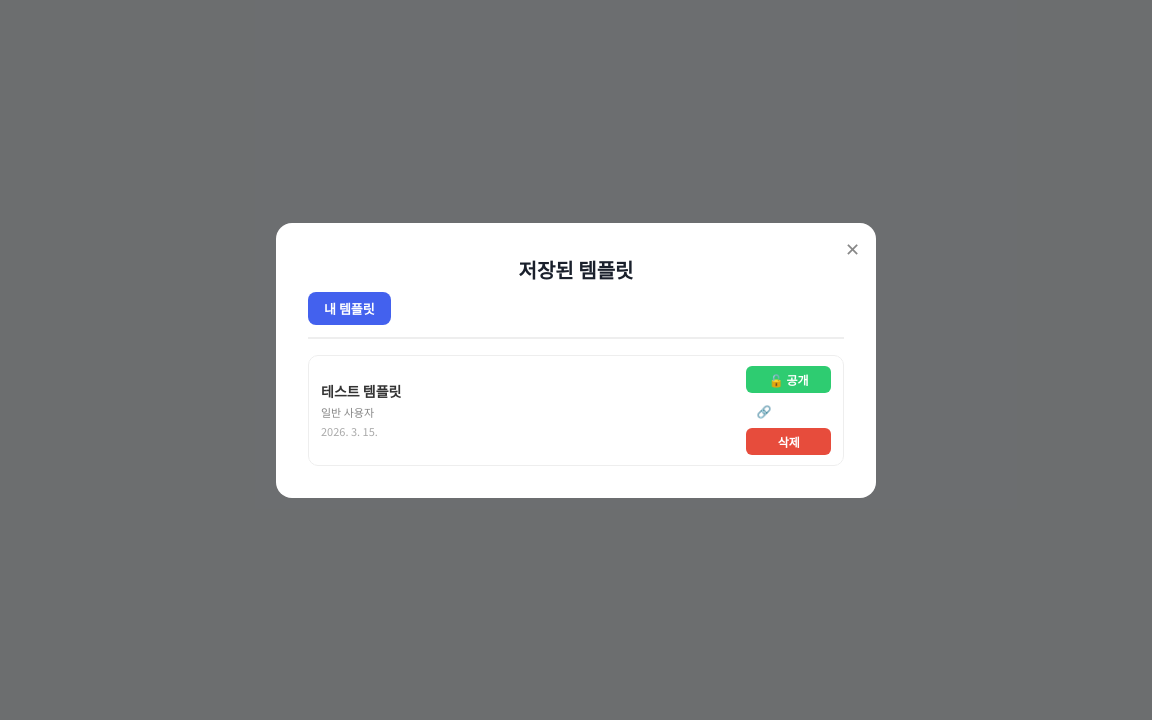
Test: SavedTemplatesModal — 소유자 액션 › "링크 복사" 클릭 시 clipboard 실패 시 에러 메시지가 표시된다
Click the button titled "공유 링크 복사": (789, 410) top-left (746, 396), bottom-right (831, 424)
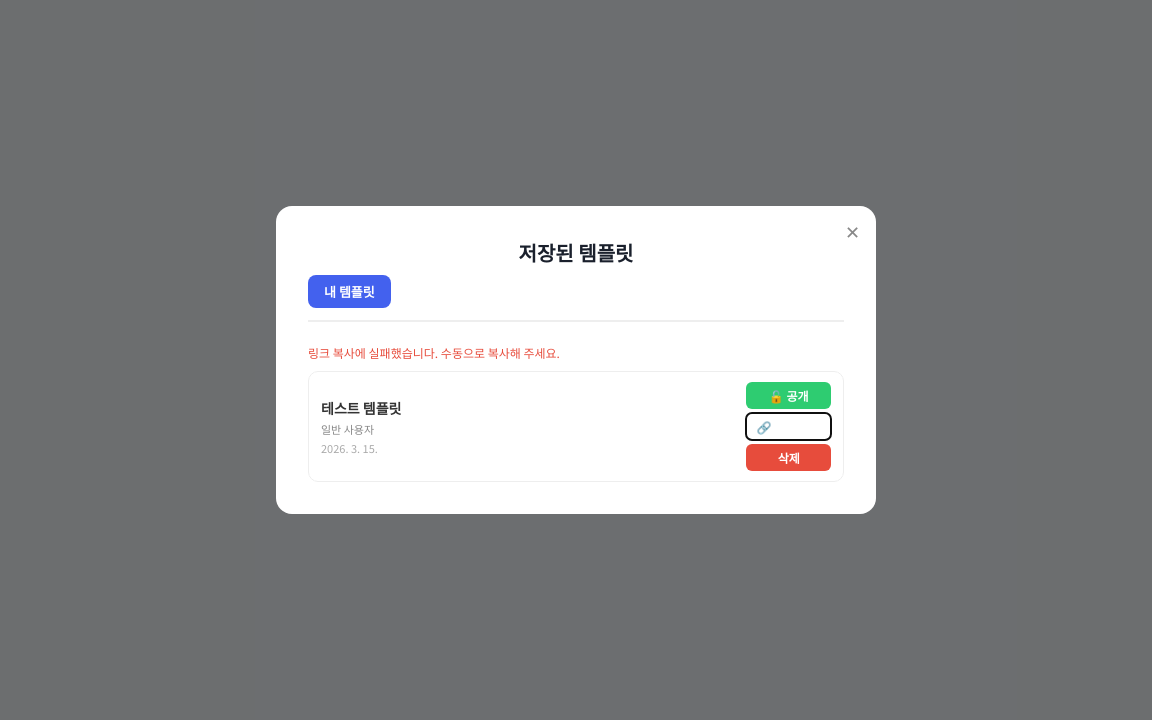
Now the text "링크 복사에 실패했습니다. 수동으로 복사해 주세요." is shown, box top-left (308, 344), bottom-right (560, 361)
